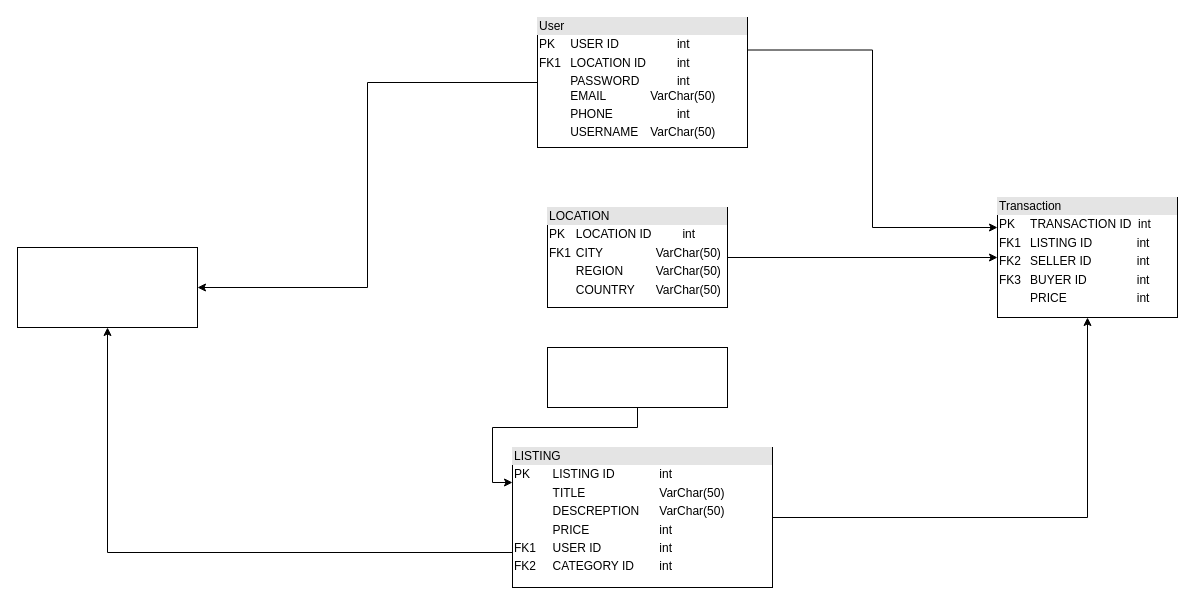
The diagram is 1195 pixels wide and 605 high, and some of its shapes have lost their labels. The shapes that lost their labels are listed below. From the top down, each one's centre as x and y in pixels, then its label:
At (x=107, y=287): "Message PK MESSAGE ID Int FK1 SENDER ID int FK2 RECIVER ID int".
At (x=637, y=377): "CATEGORY PK CATEGORY ID int FK1 NAME VarChar(50)".
